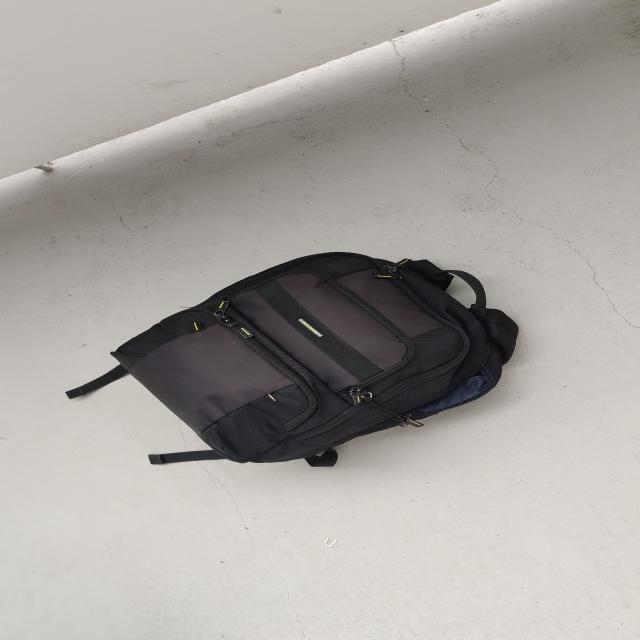backpack: (101, 245, 534, 469)
